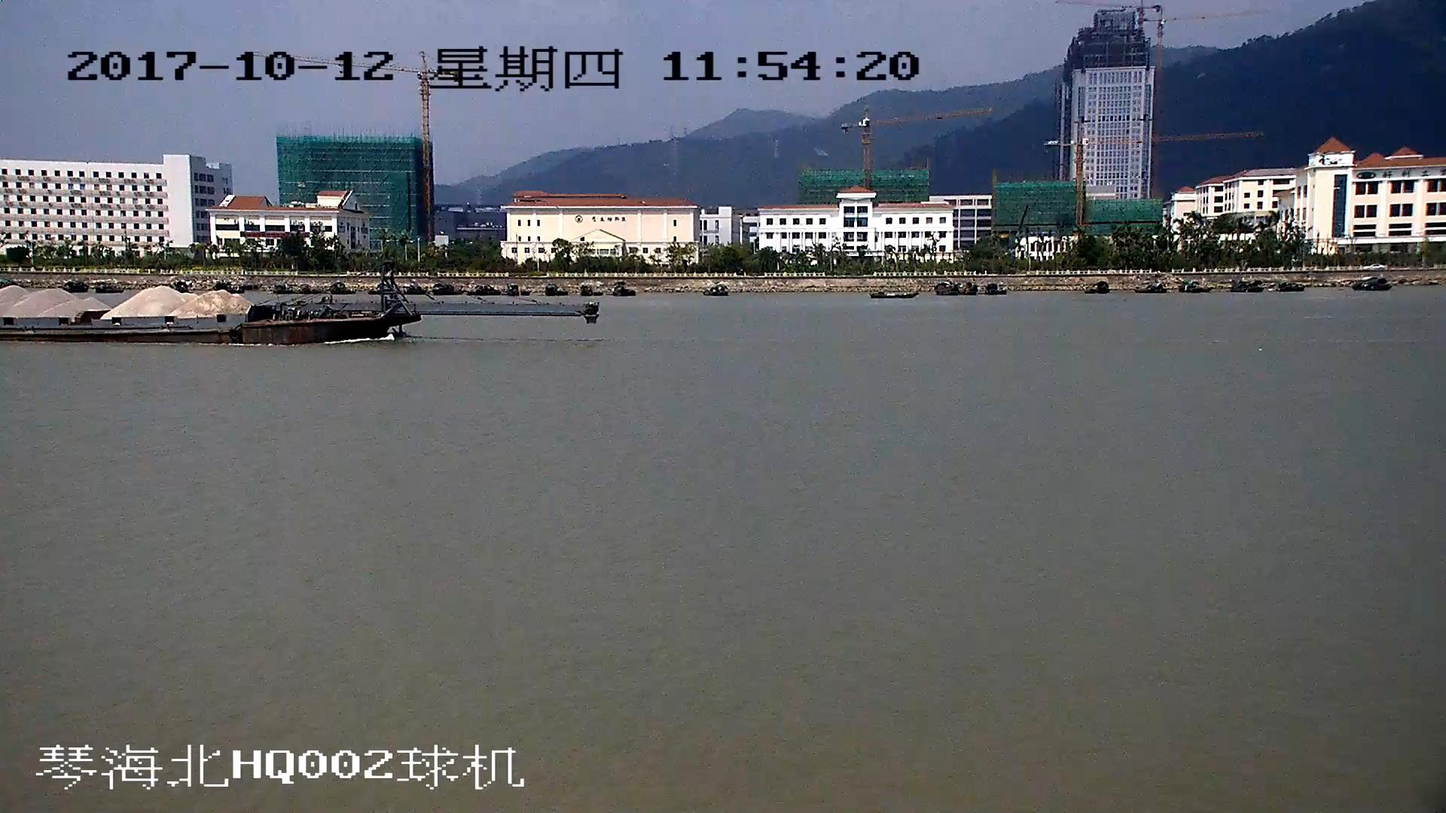ore carrier: (0, 250, 597, 340)
